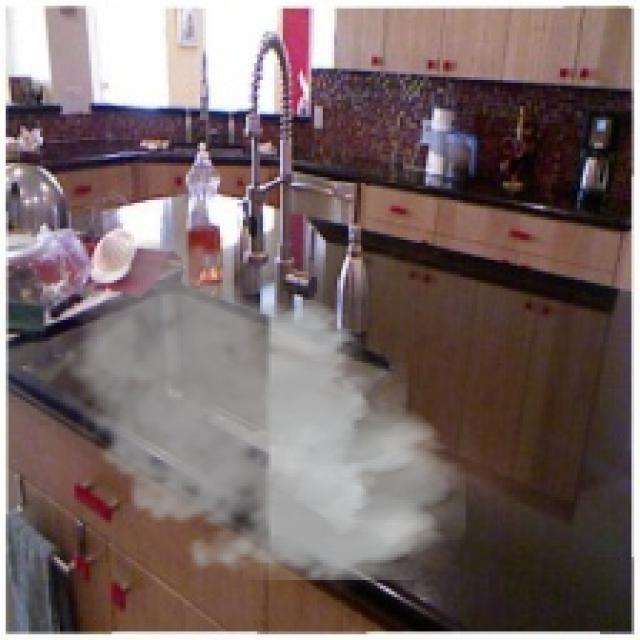Smoke: (48, 232, 466, 594)
